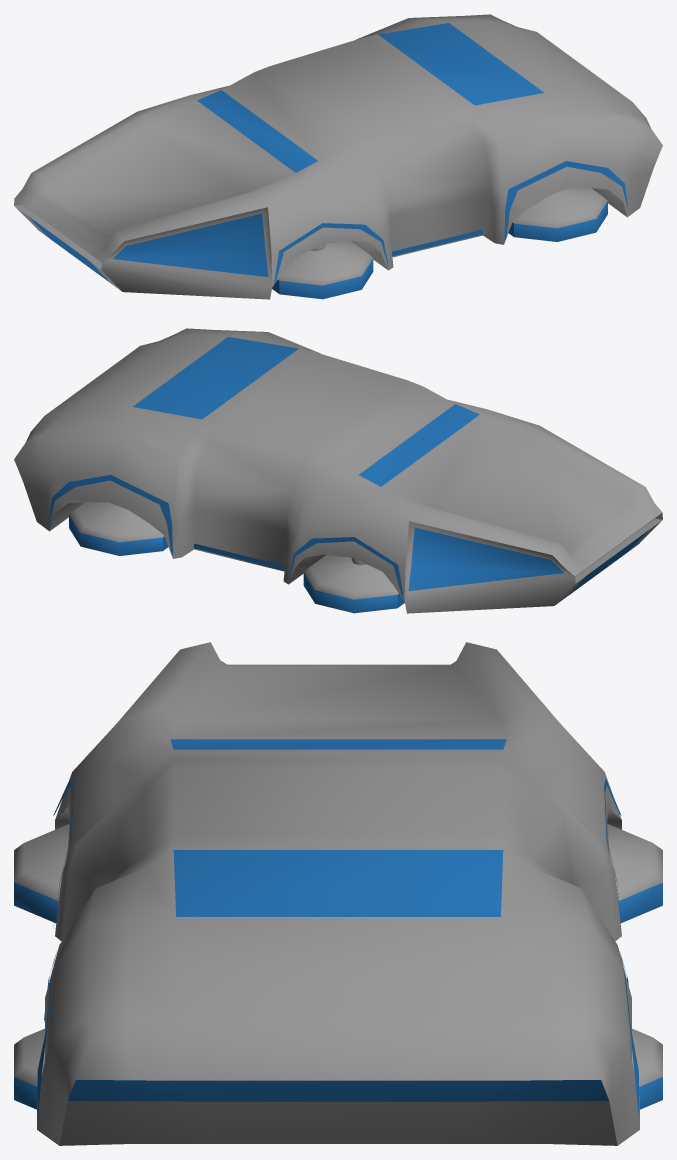
Rendered from car.fbx.
The picture shows the model from 3 angles, top to bottom: view 1: azimuth 30°, elevation 25°; view 2: azimuth 150°, elevation 25°; view 3: azimuth 270°, elevation 25°; orthographic projection. The views are drawn at different scales.
Parts seen in each view (by area): view 1: car; view 2: car; view 3: car.
Boxes of the visible parts, x1,y1,x2,y2 form: car: [14, 14, 662, 299]; car: [14, 328, 662, 613]; car: [14, 642, 662, 1145].
Bounding box in the file's own units: 5.31 × 1.09 × 3.26.
